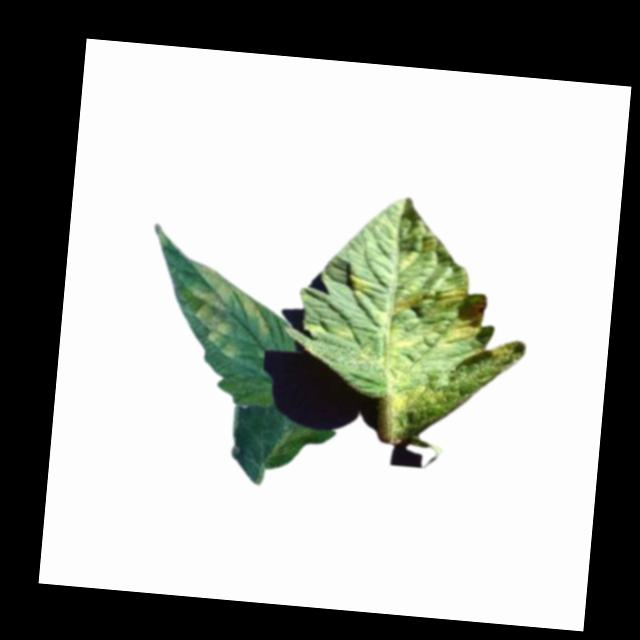Leaf_Mold: (379, 211, 537, 448), (182, 258, 275, 361), (346, 269, 374, 295)
